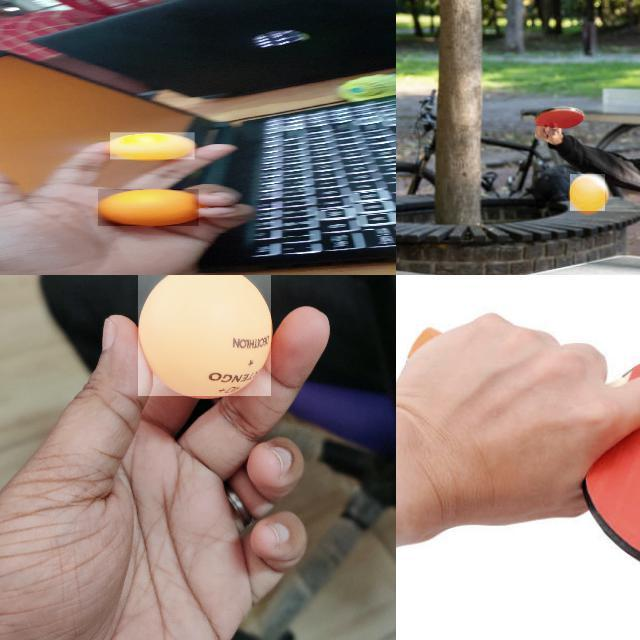ping-pong-ball: (138, 275, 273, 397), (98, 189, 200, 226), (110, 132, 196, 160), (570, 174, 606, 212)
